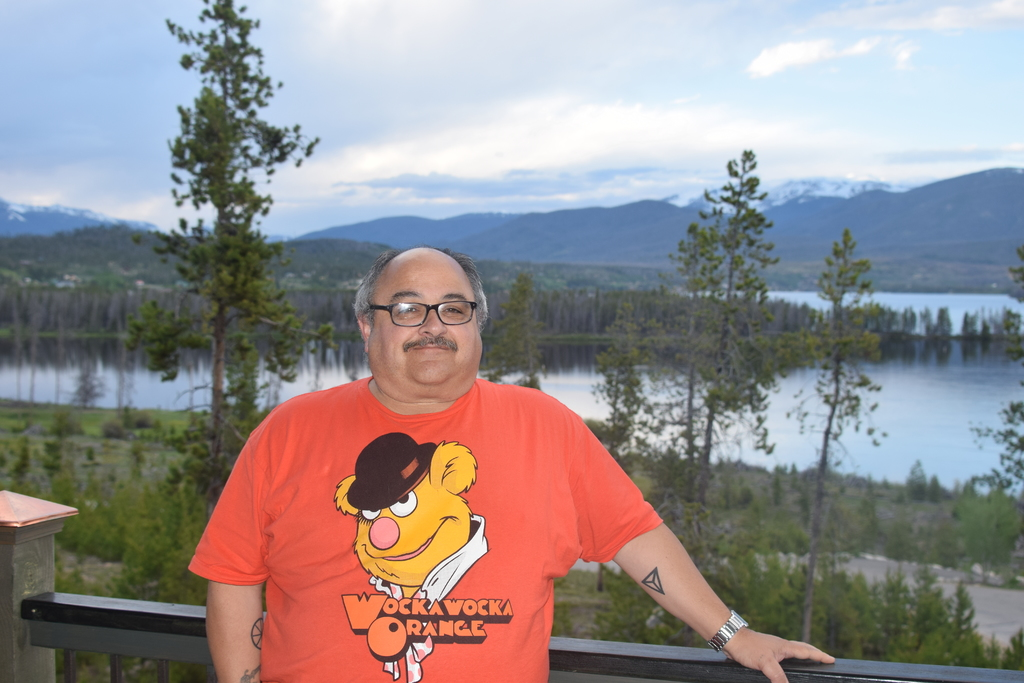Tree: (126, 17, 312, 453), (766, 233, 896, 653), (659, 144, 782, 559), (591, 280, 662, 595), (482, 265, 538, 390)
